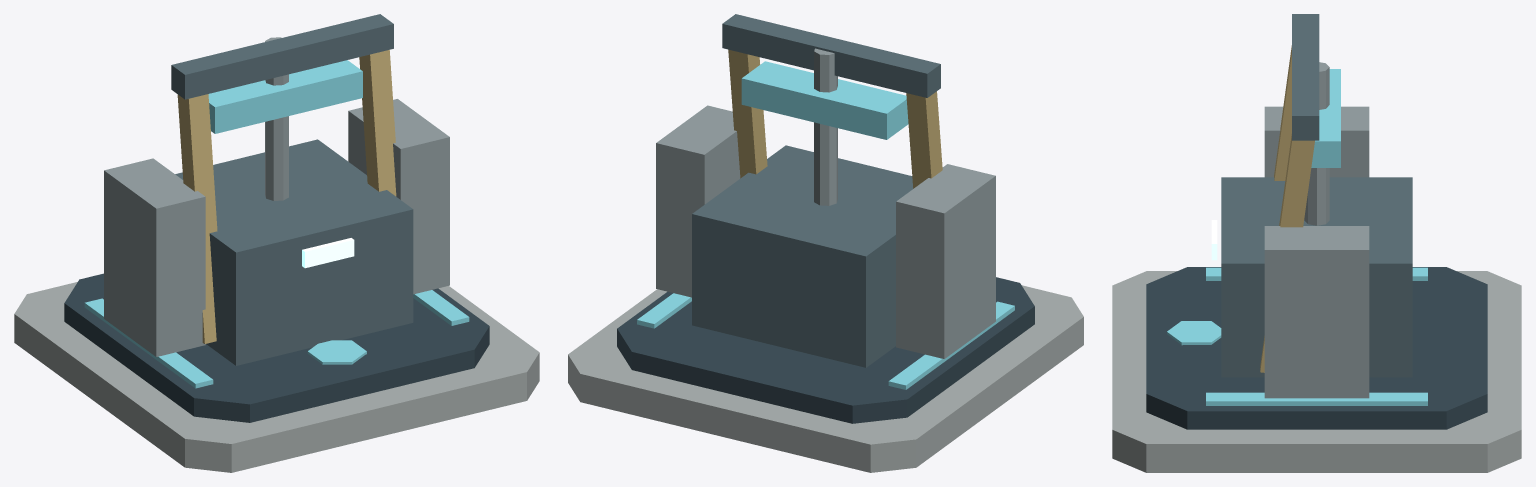
The model's file is extractor-low.glb.
3 renders of one model, left to right at view 1: azimuth 30°, elevation 25°; view 2: azimuth 150°, elevation 25°; view 3: azimuth 270°, elevation 25°, orthographic.
Parts seen in each view (by area): view 1: asset_extractor__FP_Baked, crosshead, asset_extractor__FP_Team, shaft, Hexagon, lamp; view 2: asset_extractor__FP_Baked, crosshead, shaft, asset_extractor__FP_Team; view 3: asset_extractor__FP_Baked, asset_extractor__FP_Team, crosshead, shaft, Hexagon.
Part boxes in pixels (<box>): asset_extractor__FP_Baked: <box>14,14,539,472</box>; crosshead: <box>208,60,362,133</box>; asset_extractor__FP_Team: <box>84,290,469,388</box>; shaft: <box>265,37,288,200</box>; Hexagon: <box>307,340,366,364</box>; lamp: <box>302,238,354,268</box>; asset_extractor__FP_Baked: <box>568,14,1083,472</box>; crosshead: <box>741,61,908,139</box>; shaft: <box>814,48,837,205</box>; asset_extractor__FP_Team: <box>637,293,1014,389</box>; asset_extractor__FP_Baked: <box>1112,14,1521,472</box>; asset_extractor__FP_Team: <box>1206,267,1427,405</box>; crosshead: <box>1311,69,1340,167</box>; shaft: <box>1304,62,1329,225</box>; Hexagon: <box>1167,321,1221,344</box>.
Size of the model in its own units: 1.8 by 1.56 by 1.8.
